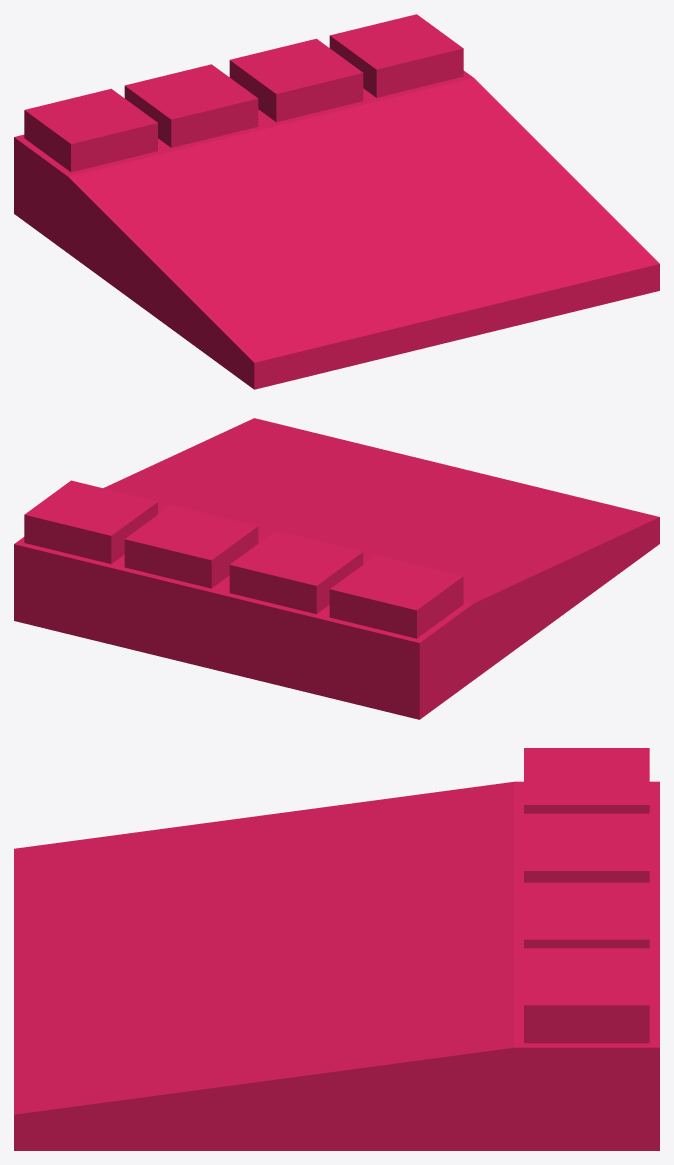
The model's file is Lego_Part_22.fbx.
3 views of the same model, one above another, from view 1: azimuth 30°, elevation 25°; view 2: azimuth 150°, elevation 25°; view 3: azimuth 270°, elevation 25° (orthographic). The views are drawn at different scales.
Visible parts, largest first — view 1: Lego_Part_22; view 2: Lego_Part_22; view 3: Lego_Part_22.
Part boxes in pixels (x1,y1,x2,y2): Lego_Part_22: (14,14,659,389); Lego_Part_22: (14,418,659,719); Lego_Part_22: (14,748,659,1150).
Bounding box in the file's own units: 6.26 × 1.55 × 6.43.
Materials: 1 (1 with a texture image).
